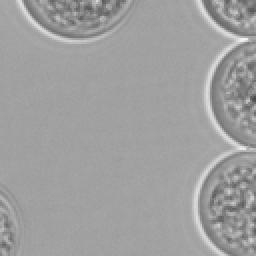picoshell: (194, 150, 254, 254), (16, 0, 132, 42), (210, 40, 254, 146), (202, 0, 254, 34), (0, 186, 20, 254)
